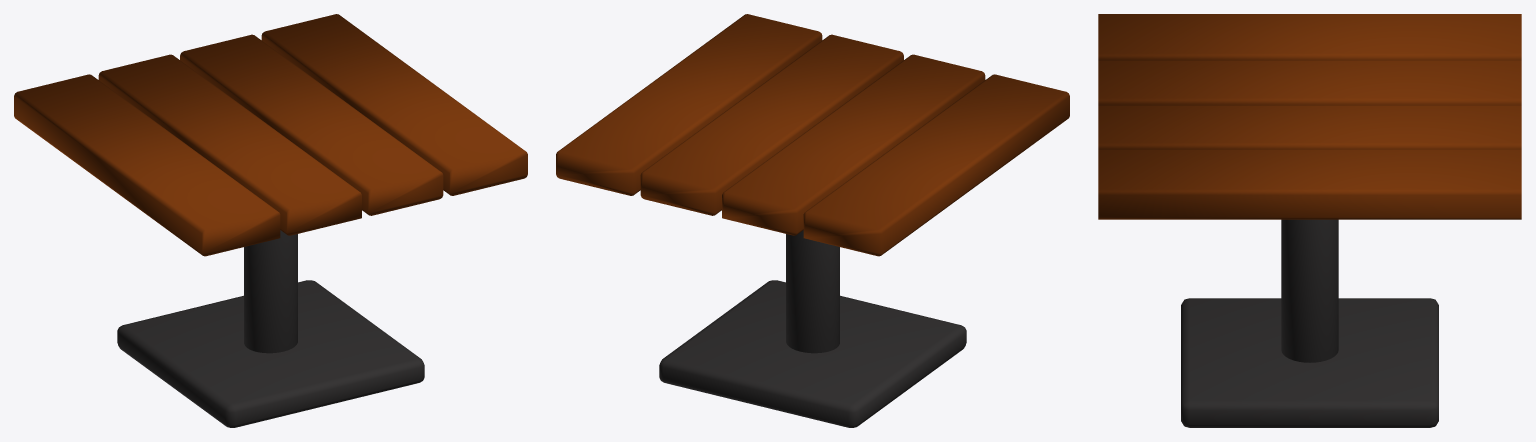
Rendered from mesa.fbx.
3 renders of one model, left to right at view 1: azimuth 30°, elevation 25°; view 2: azimuth 150°, elevation 25°; view 3: azimuth 270°, elevation 25°, orthographic. The views are drawn at different scales.
Parts seen in each view (by area): view 1: Plane, Plane.001, Cylinder.017; view 2: Plane, Plane.001, Cylinder.017; view 3: Plane, Plane.001, Cylinder.017.
Boxes of the visible parts, x1,y1,x2,y2 form: Plane: [14, 14, 527, 256]; Plane.001: [117, 280, 424, 427]; Cylinder.017: [244, 230, 297, 353]; Plane: [556, 14, 1069, 256]; Plane.001: [659, 280, 966, 427]; Cylinder.017: [786, 230, 839, 353]; Plane: [1098, 14, 1521, 219]; Plane.001: [1181, 298, 1438, 427]; Cylinder.017: [1281, 219, 1338, 362].
Bounding box in the file's own units: 124 × 88.93 × 124.
